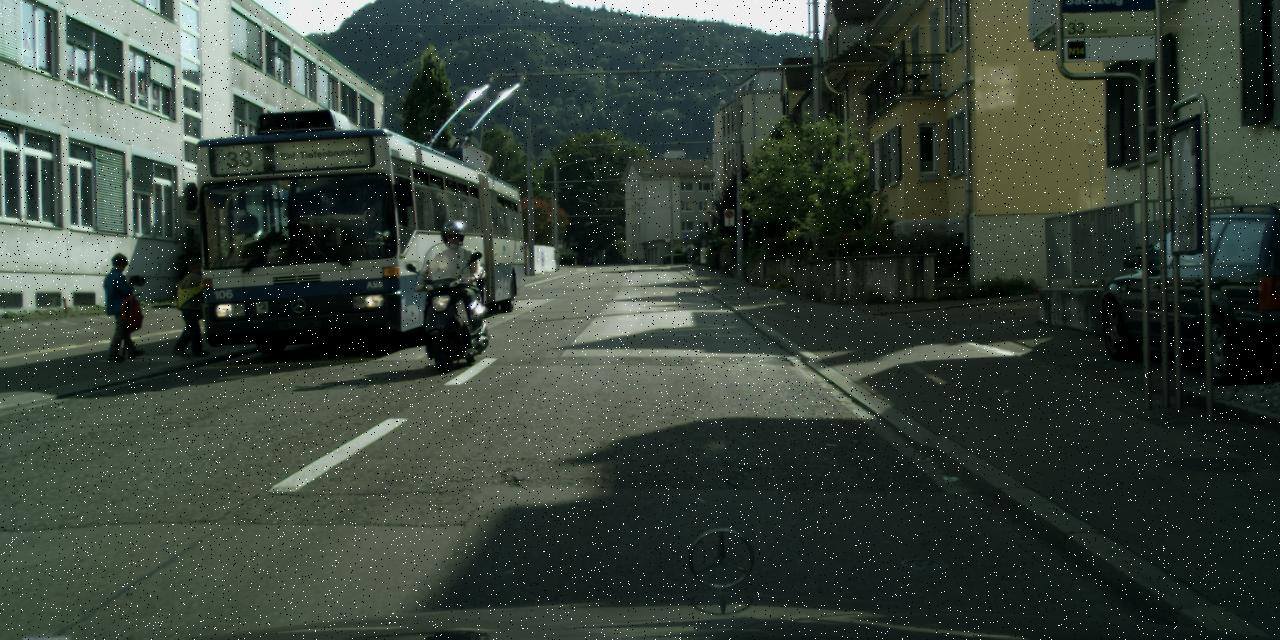ped: (426, 219, 478, 350), (100, 252, 144, 358), (174, 258, 213, 355)
